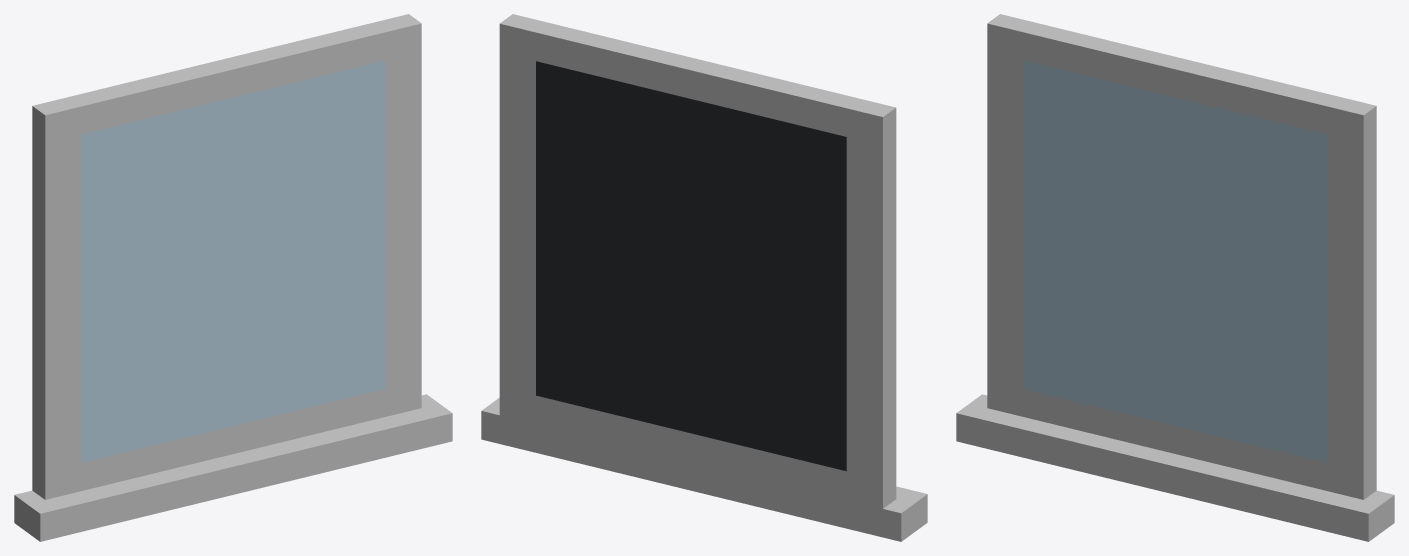
Rendered from pz_window.obj.
The picture shows the model from 3 angles, left to right: view 1: azimuth 30°, elevation 25°; view 2: azimuth 150°, elevation 25°; view 3: azimuth 330°, elevation 25°; orthographic projection.
Size of the model in its own units: 0.92 by 0.88 by 0.1.
